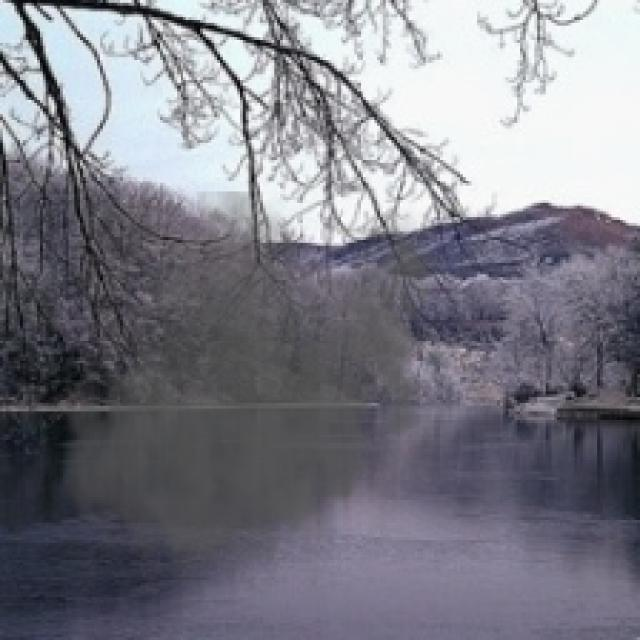smoke: (54, 192, 446, 592)
